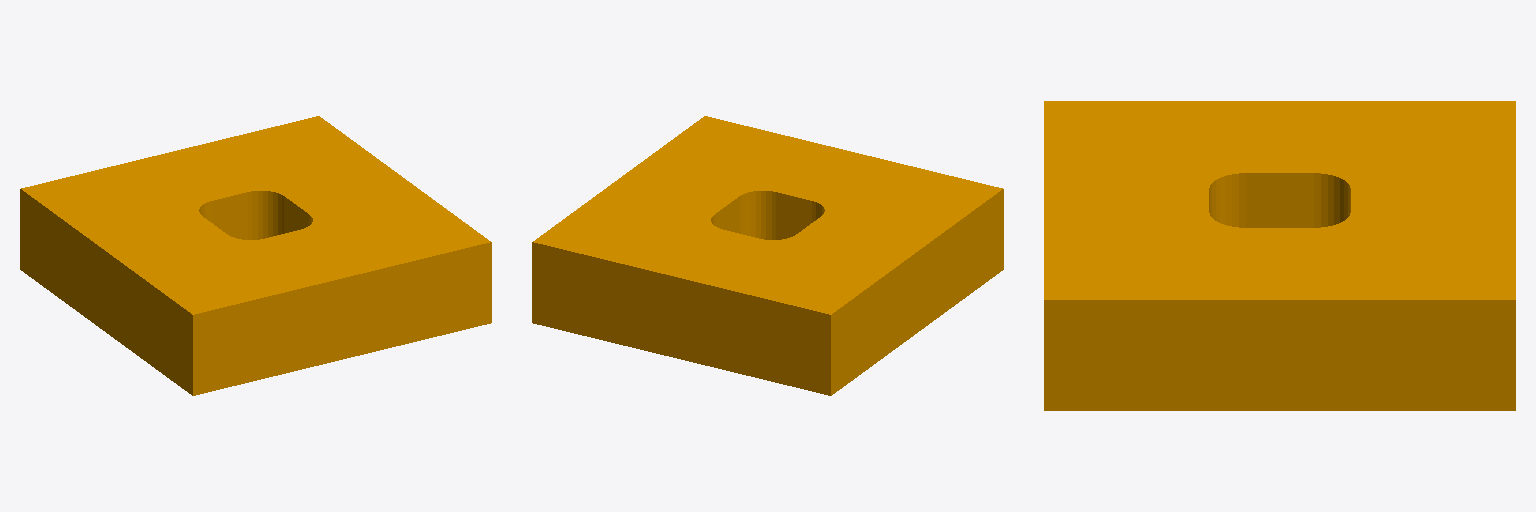
The robot description file, URDF, robot "socket_capsule":
<?xml version='1.0' encoding='utf-8'?>
<robot name="socket_capsule">
  <link name="body">
    <inertial>
      <origin xyz="-2.0328790734103208e-19 3.6817698773986924e-18 0.025623110116951002" />
      <mass value="0.6" />
      <inertia ixx="0.002252625733144443" iyy="0.0022542871530266784" izz="0.004232462174661705" ixy="-5.082197683525802e-20" ixz="-1.3702600519321558e-19" iyz="-3.2094155384202593e-21" />
    </inertial>
    <collision>
      <geometry>
        <mesh filename="part_00.obj" />
      </geometry>
    </collision>
    <collision>
      <geometry>
        <mesh filename="part_01.obj" />
      </geometry>
    </collision>
    <collision>
      <geometry>
        <mesh filename="part_02.obj" />
      </geometry>
    </collision>
    <collision>
      <geometry>
        <mesh filename="part_03.obj" />
      </geometry>
    </collision>
    <collision>
      <geometry>
        <mesh filename="part_04.obj" />
      </geometry>
    </collision>
    <collision>
      <geometry>
        <mesh filename="part_05.obj" />
      </geometry>
    </collision>
    <collision>
      <geometry>
        <mesh filename="part_06.obj" />
      </geometry>
    </collision>
    <collision>
      <geometry>
        <mesh filename="part_07.obj" />
      </geometry>
    </collision>
    <collision>
      <geometry>
        <mesh filename="part_08.obj" />
      </geometry>
    </collision>
    <collision>
      <geometry>
        <mesh filename="part_09.obj" />
      </geometry>
    </collision>
    <collision>
      <geometry>
        <mesh filename="part_10.obj" />
      </geometry>
    </collision>
    <collision>
      <geometry>
        <mesh filename="part_11.obj" />
      </geometry>
    </collision>
    <collision>
      <geometry>
        <mesh filename="part_12.obj" />
      </geometry>
    </collision>
    <collision>
      <geometry>
        <mesh filename="part_13.obj" />
      </geometry>
    </collision>
    <collision>
      <geometry>
        <mesh filename="part_14.obj" />
      </geometry>
    </collision>
    <collision>
      <geometry>
        <mesh filename="part_15.obj" />
      </geometry>
    </collision>
    <collision>
      <geometry>
        <mesh filename="part_16.obj" />
      </geometry>
    </collision>
    <collision>
      <geometry>
        <mesh filename="part_17.obj" />
      </geometry>
    </collision>
    <collision>
      <geometry>
        <mesh filename="part_18.obj" />
      </geometry>
    </collision>
    <collision>
      <geometry>
        <mesh filename="part_19.obj" />
      </geometry>
    </collision>
    <collision>
      <geometry>
        <mesh filename="part_20.obj" />
      </geometry>
    </collision>
    <collision>
      <geometry>
        <mesh filename="part_21.obj" />
      </geometry>
    </collision>
    <collision>
      <geometry>
        <mesh filename="part_22.obj" />
      </geometry>
    </collision>
    <collision>
      <geometry>
        <mesh filename="part_23.obj" />
      </geometry>
    </collision>
    <collision>
      <geometry>
        <mesh filename="part_24.obj" />
      </geometry>
    </collision>
    <collision>
      <geometry>
        <mesh filename="part_25.obj" />
      </geometry>
    </collision>
    <collision>
      <geometry>
        <mesh filename="part_26.obj" />
      </geometry>
    </collision>
    <collision>
      <geometry>
        <mesh filename="part_27.obj" />
      </geometry>
    </collision>
    <collision>
      <geometry>
        <mesh filename="part_28.obj" />
      </geometry>
    </collision>
    <collision>
      <geometry>
        <mesh filename="part_29.obj" />
      </geometry>
    </collision>
    <collision>
      <geometry>
        <mesh filename="part_30.obj" />
      </geometry>
    </collision>
    <collision>
      <geometry>
        <mesh filename="part_31.obj" />
      </geometry>
    </collision>
    <collision>
      <geometry>
        <mesh filename="part_32.obj" />
      </geometry>
    </collision>
    <collision>
      <geometry>
        <mesh filename="part_33.obj" />
      </geometry>
    </collision>
    <collision>
      <geometry>
        <mesh filename="part_34.obj" />
      </geometry>
    </collision>
    <collision>
      <geometry>
        <mesh filename="part_35.obj" />
      </geometry>
    </collision>
    <collision>
      <geometry>
        <mesh filename="part_36.obj" />
      </geometry>
    </collision>
    <visual>
      <geometry>
        <mesh filename="visual.obj" />
      </geometry>
    </visual>
  </link>
</robot>

--- Facts derived from the render (not from the file) ---
3 views of the same robot in one strip: view 1: azimuth 30°, elevation 25°; view 2: azimuth 150°, elevation 25°; view 3: azimuth 270°, elevation 25° (orthographic).
Model socket_capsule with 1 links and 0 joints (none), rooted at body, posed every joint at zero.
Visible links, largest first — view 1: body; view 2: body; view 3: body.
Boxes of the visible links, <box> form: body: <box>20,116,491,395</box>; body: <box>532,116,1003,395</box>; body: <box>1044,101,1515,410</box>.
Bounding box of the posed robot: 0.2 × 0.2 × 0.052 m (x, y, z).
Meshes: 1 distinct files referenced, 1 mesh visuals loaded (1 OBJ).
